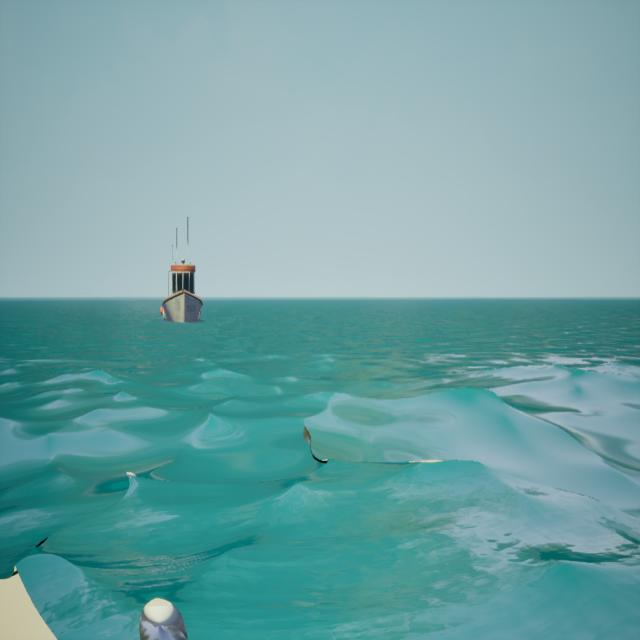ship: (157, 210, 207, 328)
